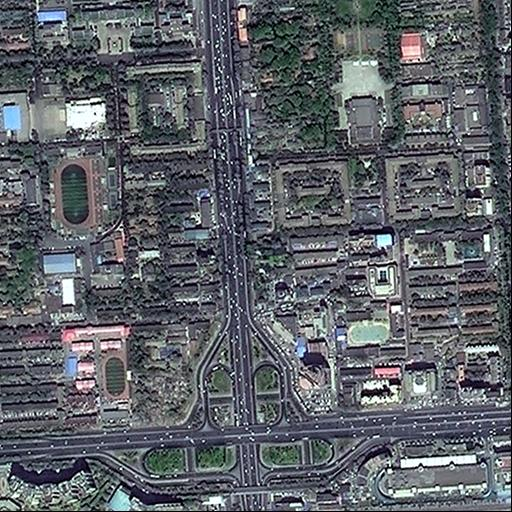school: (56, 318, 130, 427), (338, 308, 408, 348)
